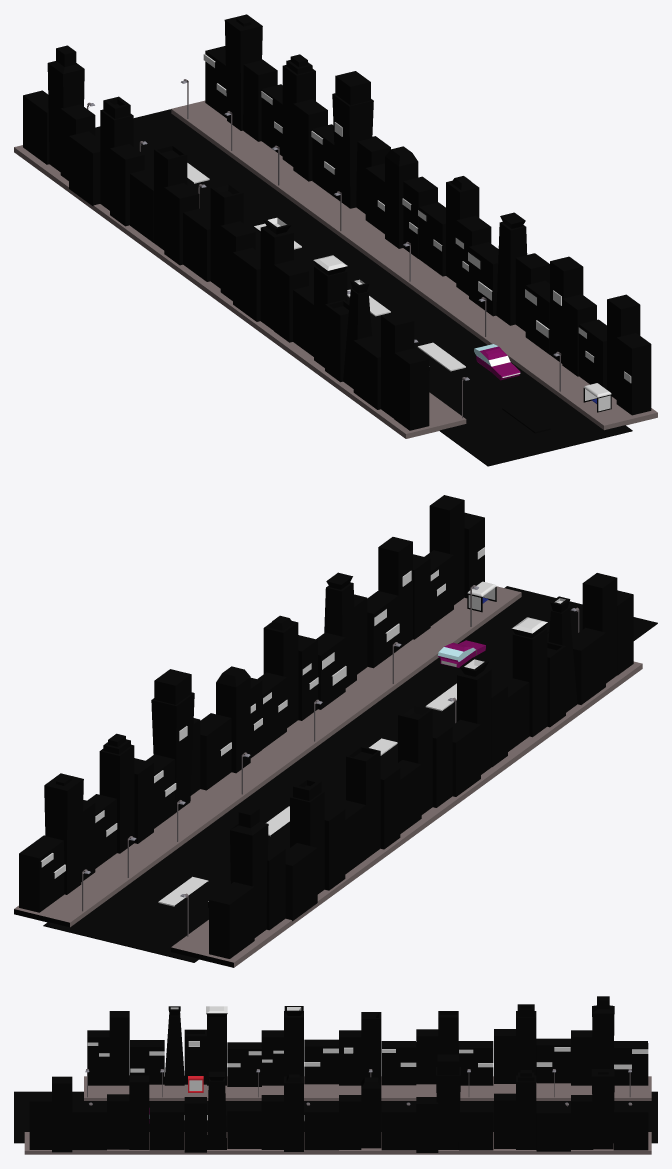
File: city.fbx
3 renders of one model, top to bottom at view 1: azimuth 30°, elevation 25°; view 2: azimuth 150°, elevation 25°; view 3: azimuth 270°, elevation 25°, orthographic. The views are drawn at different scales.
Visible parts, largest first — view 1: Cube, Cube.013; view 2: Cube, Cube.013; view 3: Cube, Cube.013, Cube.015.
Part boxes in pixels (<box>): Cube: <box>14,14,657,466</box>; Cube.013: <box>87,79,561,418</box>; Cube: <box>14,495,657,967</box>; Cube.013: <box>82,585,579,936</box>; Cube: <box>14,996,657,1154</box>; Cube.013: <box>86,1069,631,1106</box>; Cube.015: <box>188,1076,203,1092</box>.
Size of the model in its own units: 11341 by 6440 by 40626.
Materials: 29 (3 with a texture image).
